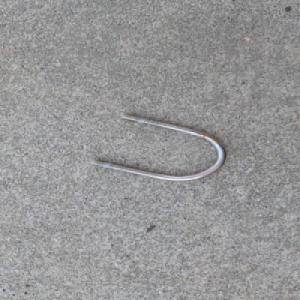ClampPart: (89, 113, 228, 181)
